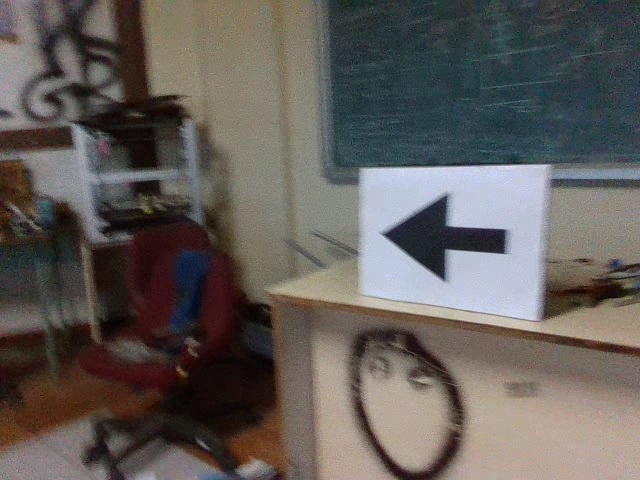Left: (375, 188, 516, 287)
